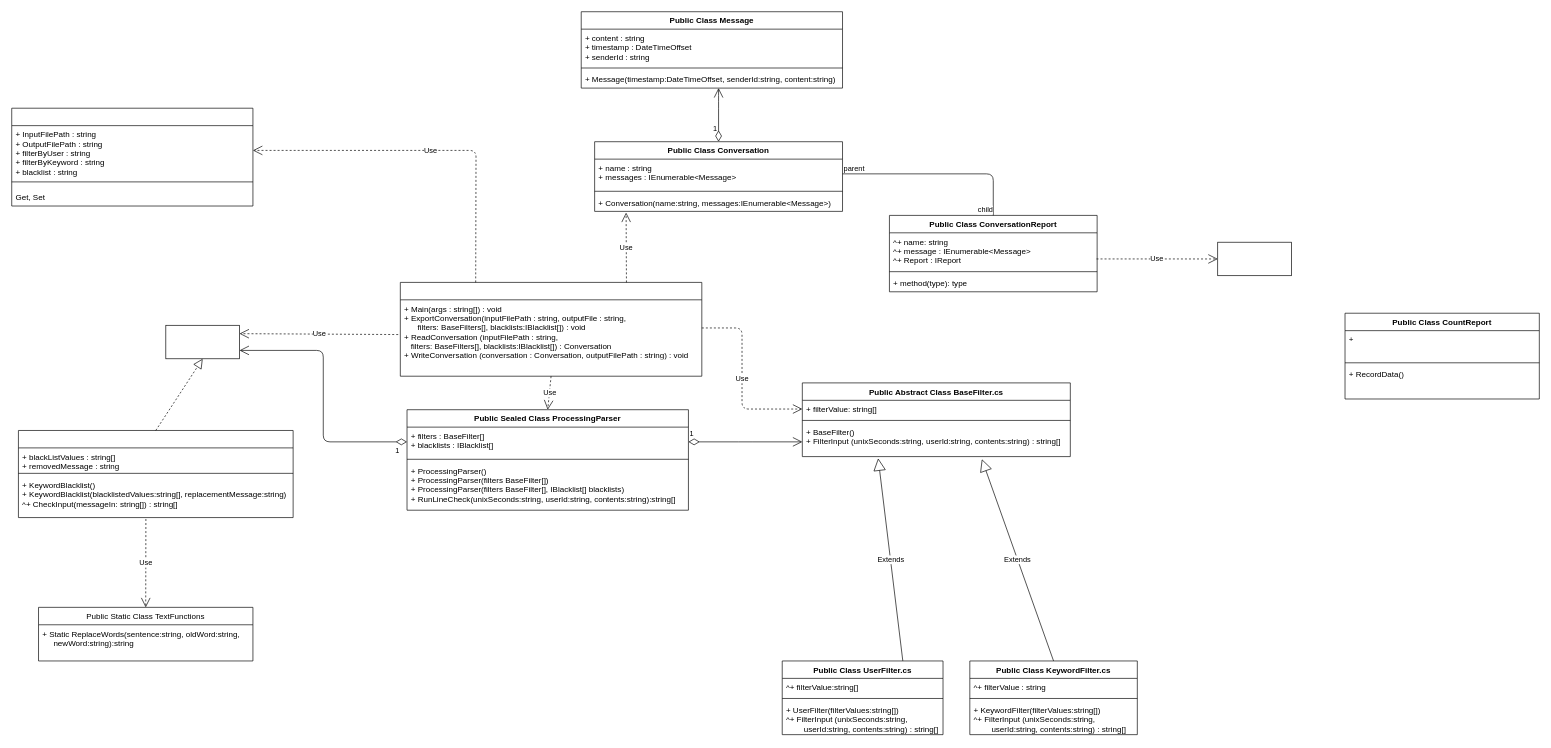
The diagram is 1551 pixels wide and 748 high, and some of its shapes have lost their labels. Each missing label, with the box of its shape:
Public KeywordBlacklist.cs: (18, 430, 293, 518)
Public Sealed Class ConversationExporter.cs: (400, 282, 702, 376)
Public Sealed Class ConversationExporterConfiguration.cs: (11, 108, 253, 206)
«interface» IBlacklist: (165, 325, 240, 359)
«interface» IReporting: (1217, 242, 1291, 276)
